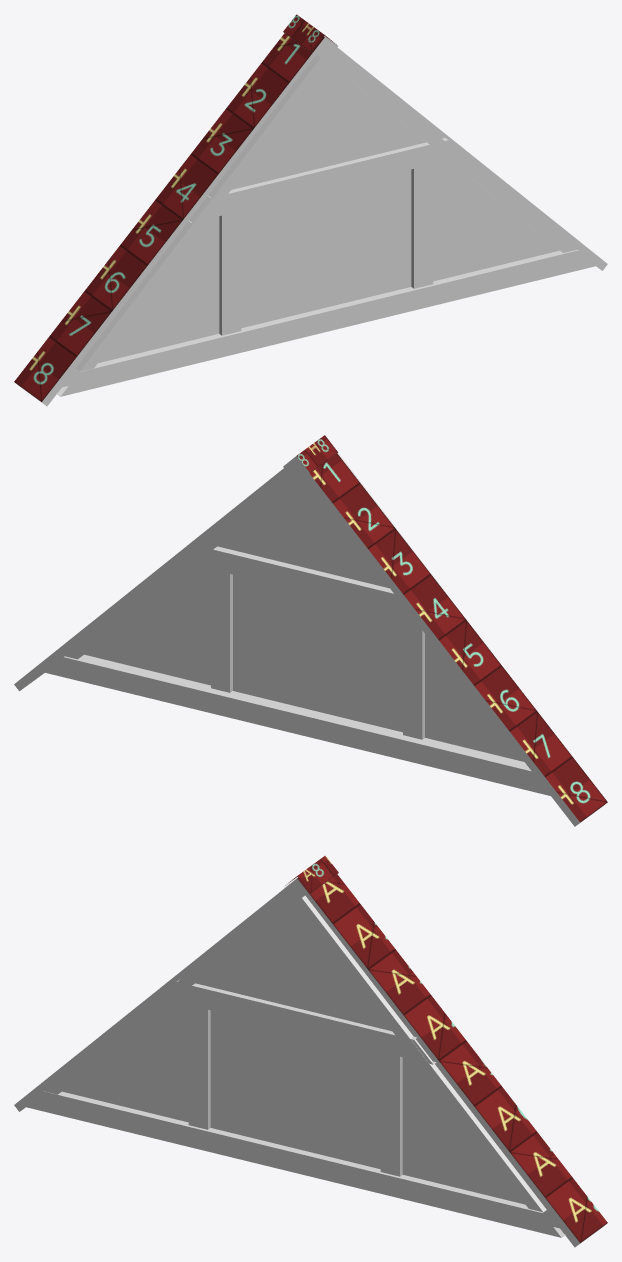
File: CK Roof gable.dae
The picture shows the model from 3 angles, top to bottom: view 1: azimuth 30°, elevation 25°; view 2: azimuth 150°, elevation 25°; view 3: azimuth 330°, elevation 25°; orthographic projection.
Parts seen in each view (by area): view 1: Outer; view 2: Outer; view 3: Outer.
Part boxes in pixels (bbox=[...]): Outer: bbox=[14, 14, 607, 406]; Outer: bbox=[14, 435, 607, 826]; Outer: bbox=[14, 855, 607, 1247].
Size of the model in its own units: 5.89 by 0.59 by 3.02.
